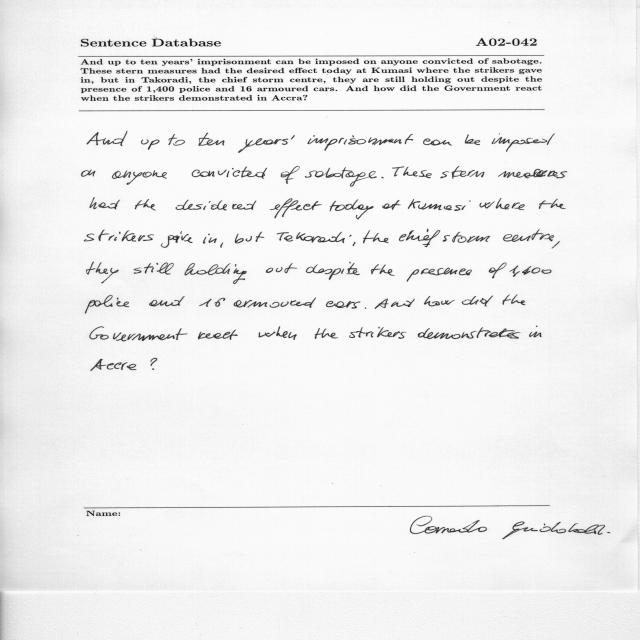word: (314, 134, 414, 151), (238, 135, 328, 153), (90, 327, 187, 342), (305, 167, 377, 187), (185, 263, 247, 284), (491, 133, 555, 152), (418, 328, 521, 339), (269, 199, 322, 219), (306, 262, 360, 280), (407, 268, 472, 282), (192, 167, 267, 179), (176, 200, 257, 211), (330, 200, 374, 220), (84, 230, 154, 242), (112, 170, 167, 185), (277, 232, 352, 243), (234, 298, 316, 308), (85, 295, 129, 313), (408, 199, 471, 211), (399, 229, 440, 247), (86, 262, 119, 283), (349, 327, 406, 339), (503, 229, 554, 242), (498, 169, 567, 178), (87, 131, 128, 146), (440, 166, 485, 179), (479, 198, 525, 210), (161, 231, 193, 248), (91, 359, 136, 371), (259, 326, 297, 340), (443, 232, 490, 243), (392, 167, 432, 179), (510, 266, 552, 277), (375, 298, 415, 309), (198, 329, 238, 340), (90, 198, 120, 210), (149, 296, 185, 306), (281, 166, 300, 184), (462, 296, 493, 307), (199, 133, 225, 146), (363, 231, 389, 244), (266, 263, 298, 273), (424, 296, 455, 306), (371, 264, 395, 276), (489, 263, 507, 279), (326, 301, 360, 309), (539, 199, 566, 209), (134, 263, 158, 274), (315, 328, 338, 339), (135, 199, 156, 211), (199, 298, 225, 307), (503, 295, 526, 305), (141, 139, 160, 150), (168, 134, 185, 146), (157, 263, 174, 275), (423, 139, 452, 146), (382, 200, 401, 210), (235, 234, 252, 244), (465, 135, 480, 145), (203, 234, 217, 244), (529, 326, 541, 337), (82, 170, 96, 177), (256, 232, 265, 242), (151, 358, 157, 370), (552, 241, 560, 248), (220, 242, 223, 248), (353, 242, 356, 246), (365, 307, 367, 309), (381, 177, 384, 178)
